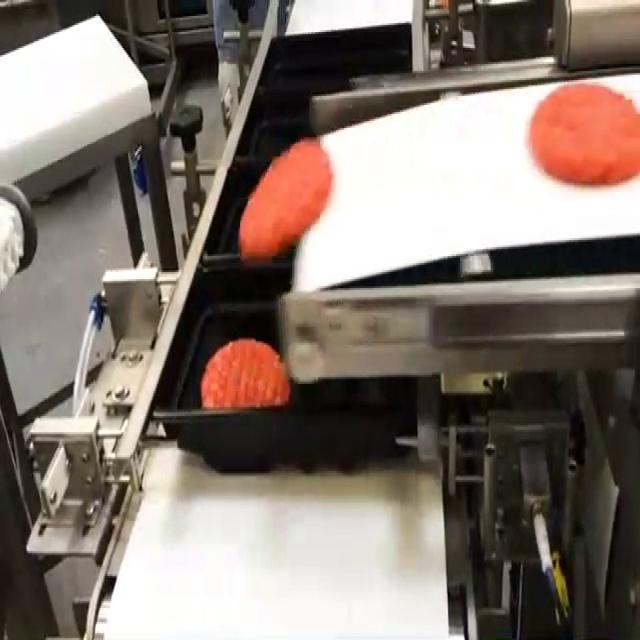hamburguer: (529, 85, 639, 183), (240, 139, 332, 256)
